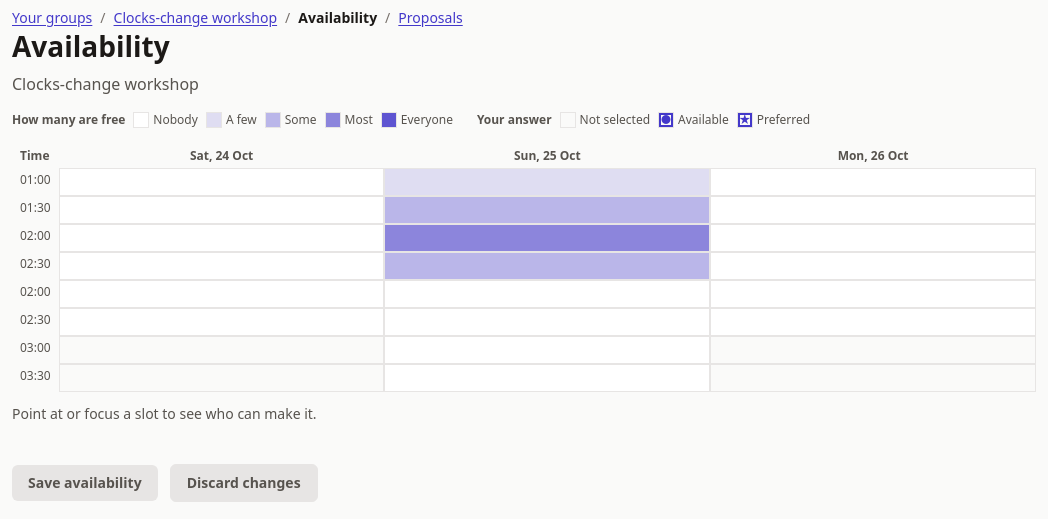
Test: AvailabilityBoard saving › restores the last saved selection when the change is discarded
The width and height of the screenshot is (1048, 519).
Press the mouse on the cell named "Sat, 24 Oct at 01:00" at [222, 182], box [59,168,384,196]
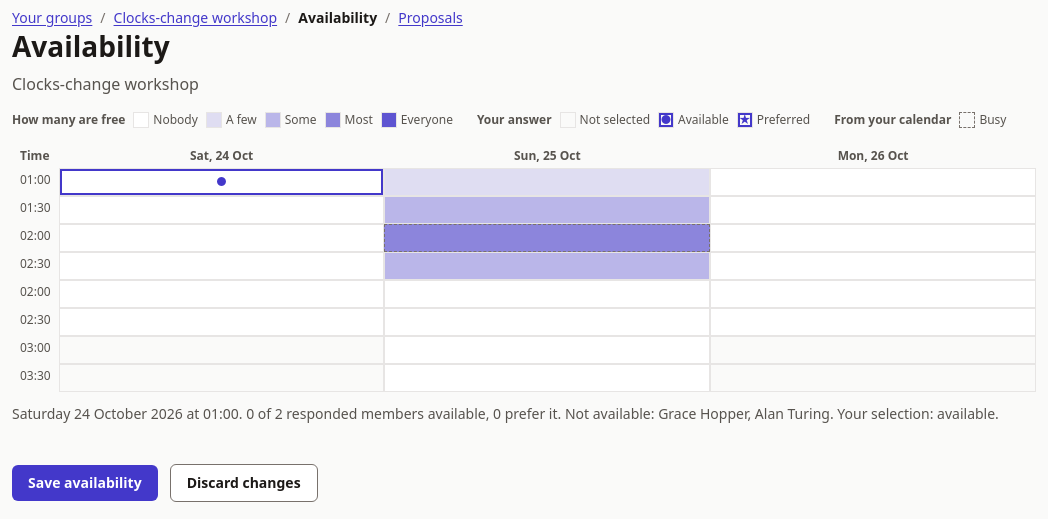
Click the button "Discard changes" at [244, 483], box [170,464,318,502]
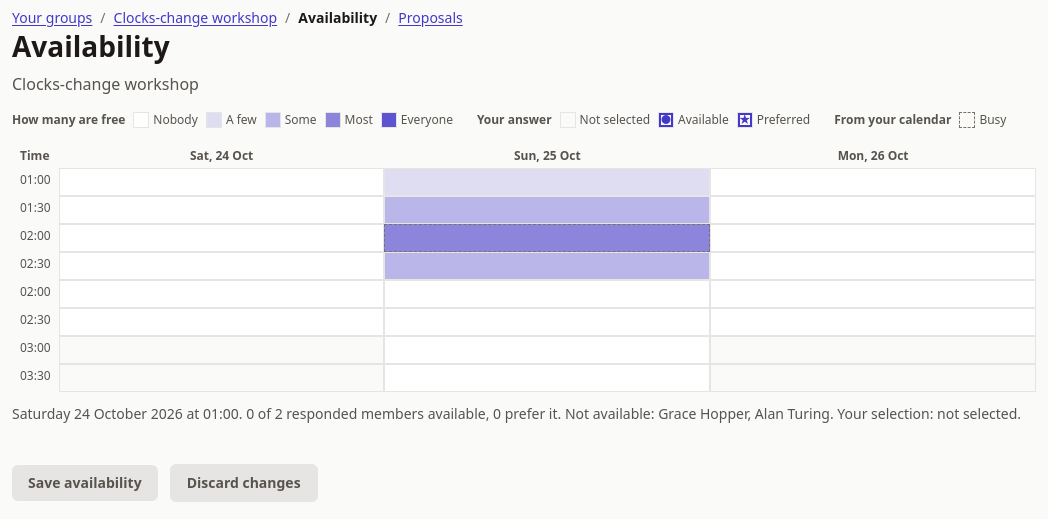
Now the button "Save availability" is disabled, box [12,465,158,501]
